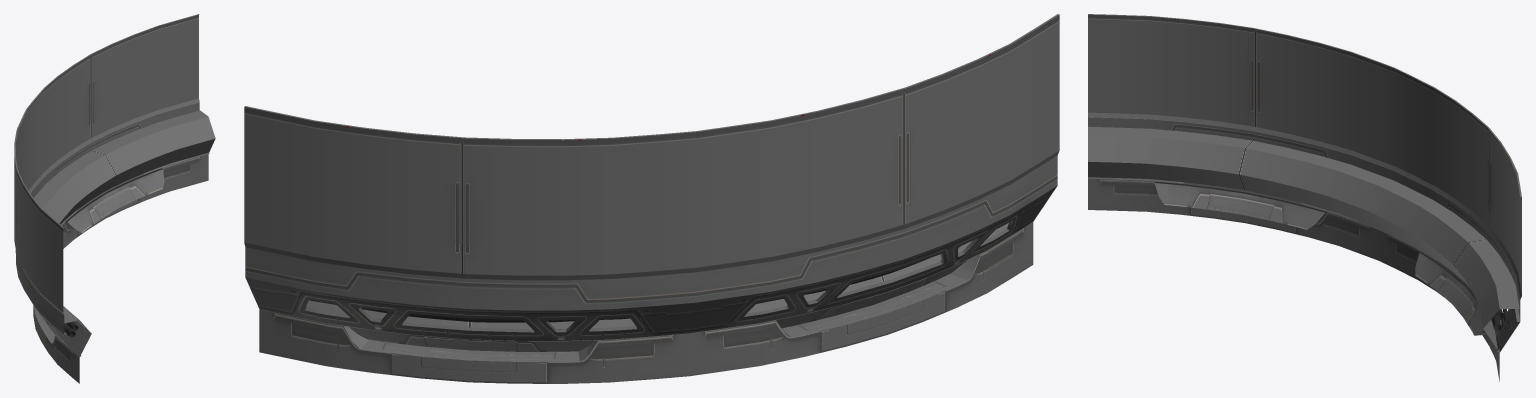
File: TopCables_Corner_Round_Outer.glb
The picture shows the model from 3 angles, left to right: view 1: azimuth 30°, elevation 25°; view 2: azimuth 150°, elevation 25°; view 3: azimuth 270°, elevation 25°; orthographic projection. The views are drawn at different scales.
Parts seen in each view (by area): view 1: TopCables_Corner_Round_Outer; view 2: TopCables_Corner_Round_Outer; view 3: TopCables_Corner_Round_Outer.
Part boxes in pixels (x1,y1,x2,y2): TopCables_Corner_Round_Outer: [14, 14, 215, 383]; TopCables_Corner_Round_Outer: [244, 14, 1059, 383]; TopCables_Corner_Round_Outer: [1088, 14, 1521, 381].
Bounding box in the file's own units: 4.22 × 2 × 4.22.
Materials: 3 (3 with a texture image).
